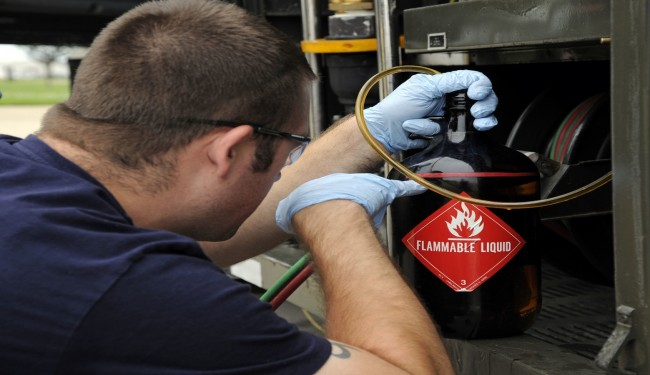FlammableLiquid: (412, 192, 522, 289)
